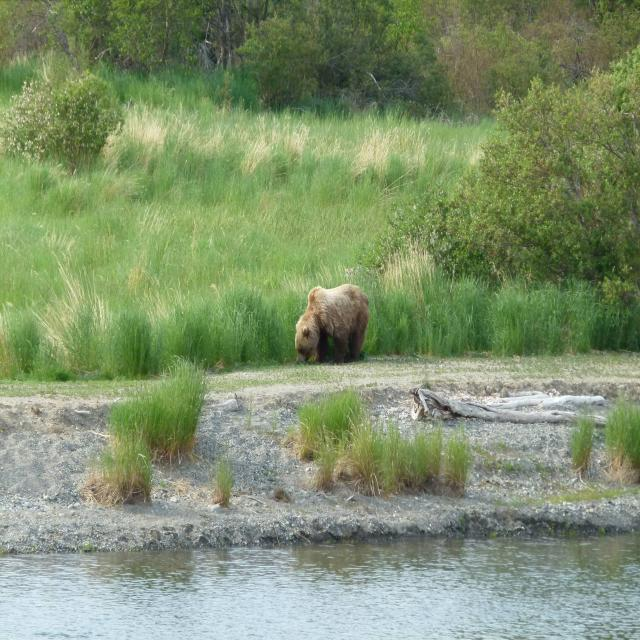bear face: (294, 284, 371, 362)
